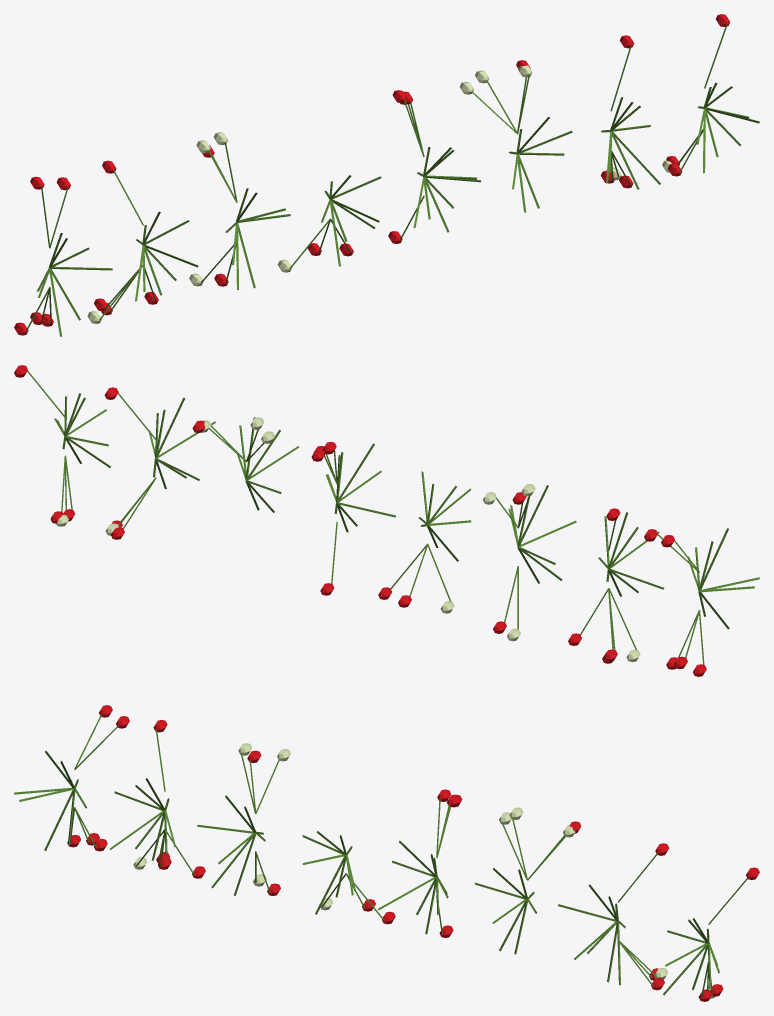
File: r1c1_rest.obj
The picture shows the model from 3 angles, top to bottom: view 1: azimuth 30°, elevation 25°; view 2: azimuth 150°, elevation 25°; view 3: azimuth 330°, elevation 25°; orthographic projection. The views are drawn at different scales.
Parts seen in each view (by area): view 1: r1c1_rest; view 2: r1c1_rest; view 3: r1c1_rest.
Boxes of the visible parts, x1,y1,x2,y2 form: r1c1_rest: (14,14,759,336); r1c1_rest: (14,365,759,676); r1c1_rest: (14,705,759,1001).
Size of the model in its own units: 1.95 by 0.4002 by 0.2497.
